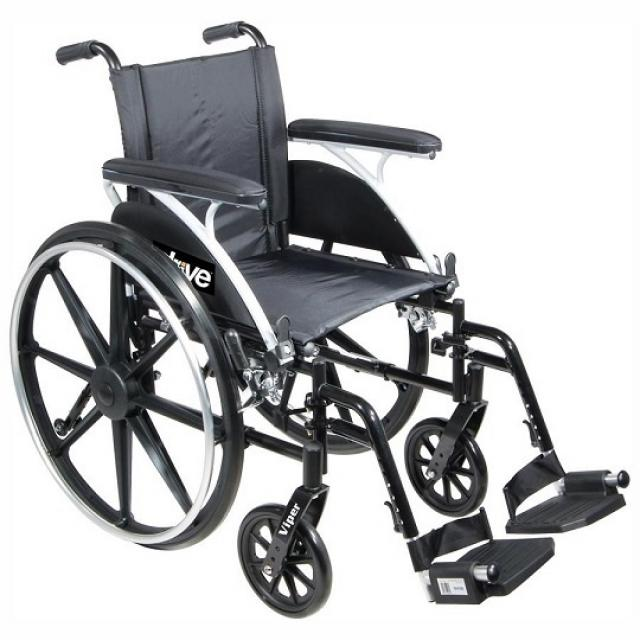wheelchair: (6, 9, 640, 640)
